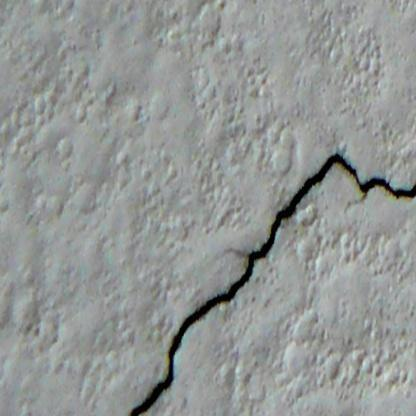Cracks: (116, 148, 416, 416)
